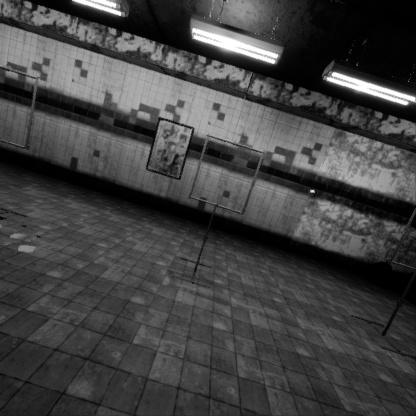gate: (188, 199, 270, 283)
